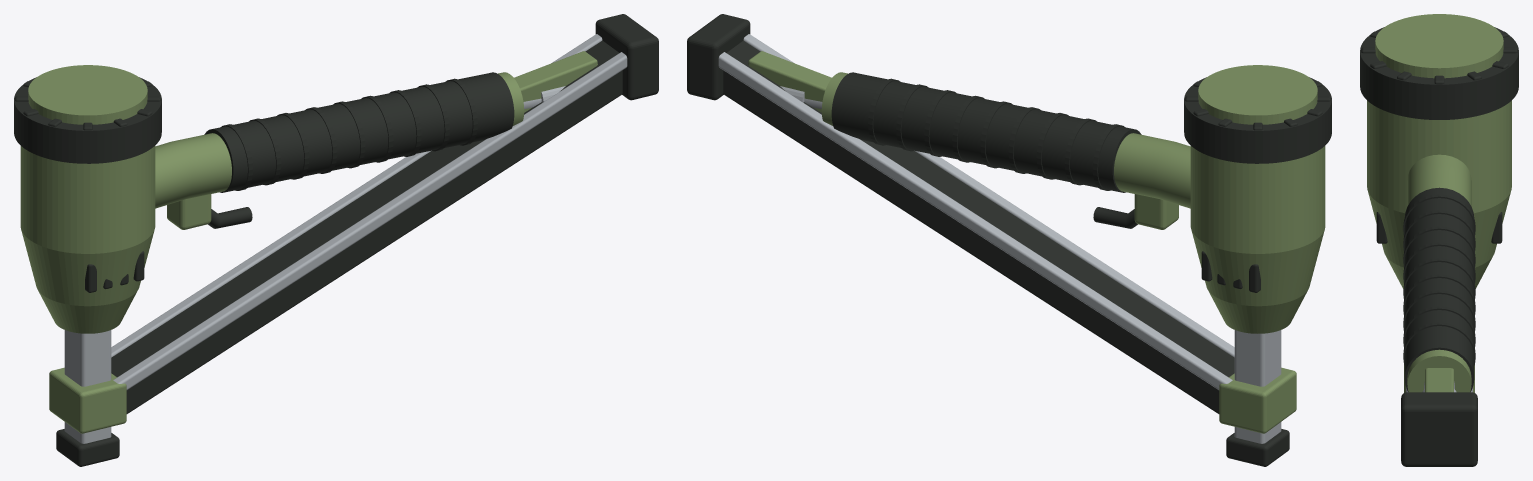
File: A-NEW-20261026-FRAMING-NAILER-001_LOD0_R1.fbx
3 views of the same model, side by side, from view 1: azimuth 30°, elevation 25°; view 2: azimuth 150°, elevation 25°; view 3: azimuth 270°, elevation 25° (orthographic). The views are drawn at different scales.
Visible parts, largest first — view 1: magazine closed lower channel, main cylinder housing, rubber grip, magazine upper rail -1, rounded rib cap, cap center cover, rear handle core, magazine upper rail 1, magazine nose anchor, magazine rear stopper, contact nose, rear grip magazine brace (+3 smaller); view 2: magazine closed lower channel, main cylinder housing, rubber grip, magazine upper rail 1, rounded rib cap, cap center cover, rear handle core, magazine upper rail -1, magazine nose anchor, magazine rear stopper, contact nose, rear grip magazine brace (+3 smaller); view 3: main cylinder housing, rubber grip, rounded rib cap, cap center cover, magazine rear stopper, rear handle core, rear grip magazine brace, grip band 8, grip band 4, grip band 7, grip band 0, grip band 1 (+6 smaller).
Part boxes in pixels (box(x1,y1,x2,y2)): magazine closed lower channel: box(111, 40, 622, 413); main cylinder housing: box(20, 146, 155, 333); rubber grip: box(204, 72, 514, 192); magazine upper rail -1: box(113, 52, 627, 389); rounded rib cap: box(14, 77, 161, 163); cap center cover: box(28, 65, 147, 124); rear handle core: box(155, 72, 524, 208); magazine upper rail 1: box(111, 34, 602, 357); magazine nose anchor: box(49, 367, 126, 433); magazine rear stopper: box(595, 14, 658, 100); contact nose: box(64, 330, 111, 443); rear grip magazine brace: box(514, 51, 597, 112); magazine closed lower channel: box(723, 40, 1234, 413); main cylinder housing: box(1190, 146, 1325, 333); rubber grip: box(831, 72, 1141, 192); magazine upper rail 1: box(718, 52, 1232, 389); rounded rib cap: box(1184, 77, 1331, 163); cap center cover: box(1198, 65, 1317, 124); rear handle core: box(821, 72, 1190, 208); magazine upper rail -1: box(743, 34, 1234, 357); magazine nose anchor: box(1219, 367, 1296, 433); magazine rear stopper: box(687, 14, 750, 100); contact nose: box(1234, 330, 1281, 443); rear grip magazine brace: box(748, 51, 831, 112); main cylinder housing: box(1367, 100, 1511, 288); rubber grip: box(1404, 187, 1474, 391); rounded rib cap: box(1360, 27, 1518, 119); cap center cover: box(1375, 14, 1503, 78); magazine rear stopper: box(1401, 392, 1477, 466); rear handle core: box(1407, 154, 1471, 392); rear grip magazine brace: box(1425, 368, 1453, 392); grip band 8: box(1403, 322, 1475, 365); grip band 4: box(1403, 258, 1475, 299); grip band 7: box(1403, 306, 1475, 347); grip band 0: box(1403, 194, 1475, 235); grip band 1: box(1403, 210, 1475, 251).
Size of the model in its own units: 55.1 by 31 by 11.4.
